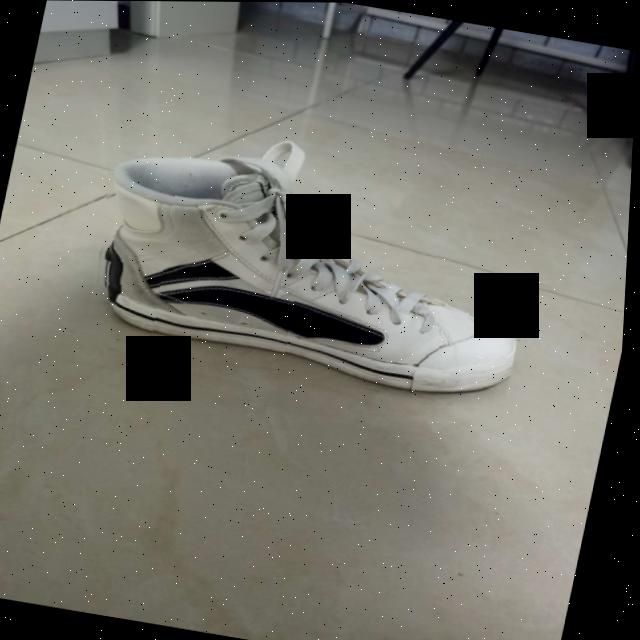shoe: (73, 112, 555, 412)
